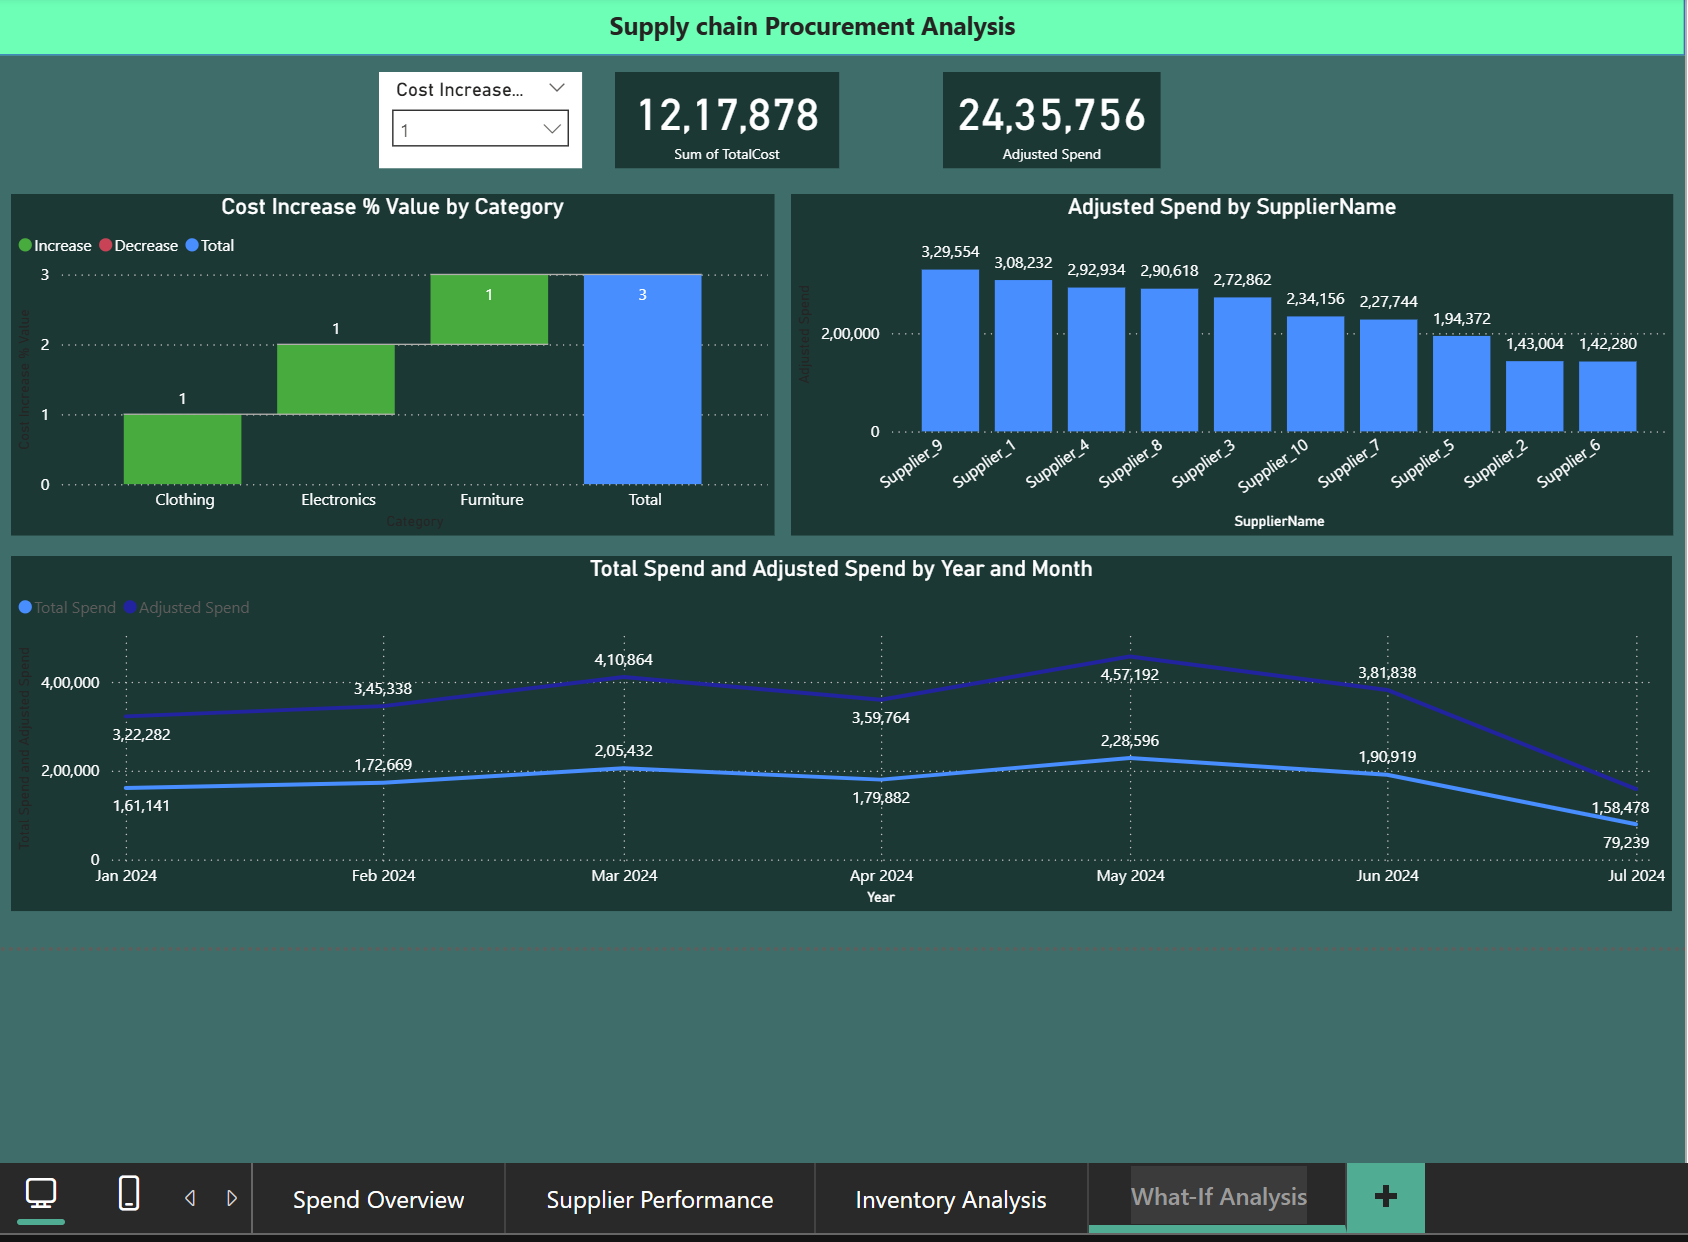

The page's visual inventory and layout, read from the dashboard file:
{"tool":"powerbi","page":{"name":"What-If Analysis","canvas":[1280,720],"ordinal":3},"visuals":[{"type":"shape","box":[0,0,1280,45.1],"z":0},{"type":"slicer","fields":{"Values":["Cost Increase %.Cost Increase %"]},"box":[289,57.2,153.9,73.2],"z":1000},{"type":"card","fields":{"Values":["Sum(Purchases.TotalCost)"]},"box":[469.2,57.2,169.9,73.2],"z":2000},{"type":"card","fields":{"Values":["Measure.Adjusted Spend"]},"box":[717,57.2,165.2,73.2],"z":3000},{"type":"waterfallChart","fields":{"Y":["Cost Increase %.Cost Increase % Value"],"Category":["Items.Category"]},"box":[11.3,150.1,579,259],"z":4000},{"type":"clusteredColumnChart","fields":{"Y":["Measure.Adjusted Spend"],"Category":["Suppliers.SupplierName"]},"box":[601.5,150.1,669.1,259],"z":5000},{"type":"lineChart","fields":{"Y":["Measure.Total Spend","Measure.Adjusted Spend"],"Category":["Calendar.Date.Variation.Date Hierarchy.Year","Calendar.Date.Variation.Date Hierarchy.Month"]},"box":[11.3,424.2,1259.4,268.4],"z":6000},{"type":"textbox","box":[458.9,4.7,328.4,35.7],"z":7000}]}

Visuals, with their boxes on the page's 1280x720 design canvas (x1, y1, x2, y2). These are canvas units, not pixel positions in the 1688x1242 screenshot, which may show the page scaled, cropped or inside an application window:
shape: locate(0, 0, 1280, 45)
slicer - Cost Increase %.Cost Increase %: locate(289, 57, 443, 130)
card - Sum(Purchases.TotalCost): locate(469, 57, 639, 130)
card - Measure.Adjusted Spend: locate(717, 57, 882, 130)
waterfallChart - Cost Increase %.Cost Increase % Value x Items.Category: locate(11, 150, 590, 409)
clusteredColumnChart - Measure.Adjusted Spend x Suppliers.SupplierName: locate(602, 150, 1271, 409)
lineChart - Measure.Total Spend x Measure.Adjusted Spend: locate(11, 424, 1271, 693)
textbox: locate(459, 5, 787, 40)
